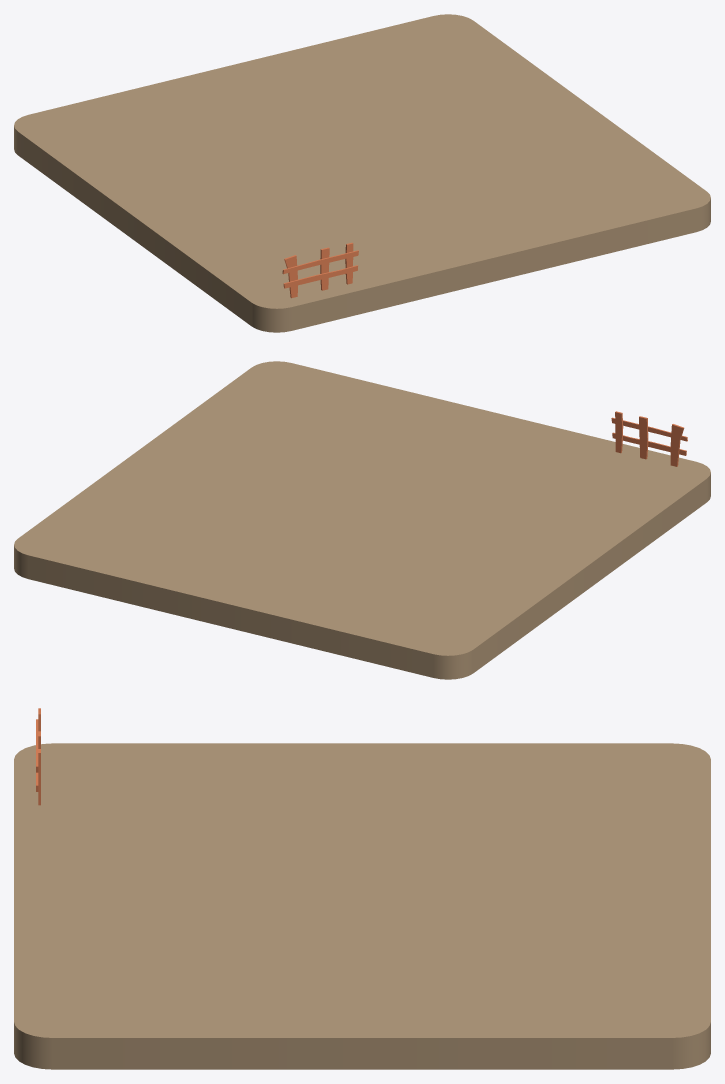
File: ground-with-barrier.glb
3 renders of one model, top to bottom at view 1: azimuth 30°, elevation 25°; view 2: azimuth 150°, elevation 25°; view 3: azimuth 270°, elevation 25°, orthographic. The views are drawn at different scales.
Visible parts, largest first — view 1: Plane.001; view 2: Plane.001; view 3: Plane.001.
Boxes of the visible parts, x1,y1,x2,y2 form: Plane.001: [14, 14, 710, 332]; Plane.001: [14, 361, 710, 679]; Plane.001: [14, 708, 710, 1069].
Bounding box in the file's own units: 20 × 2.73 × 20.
